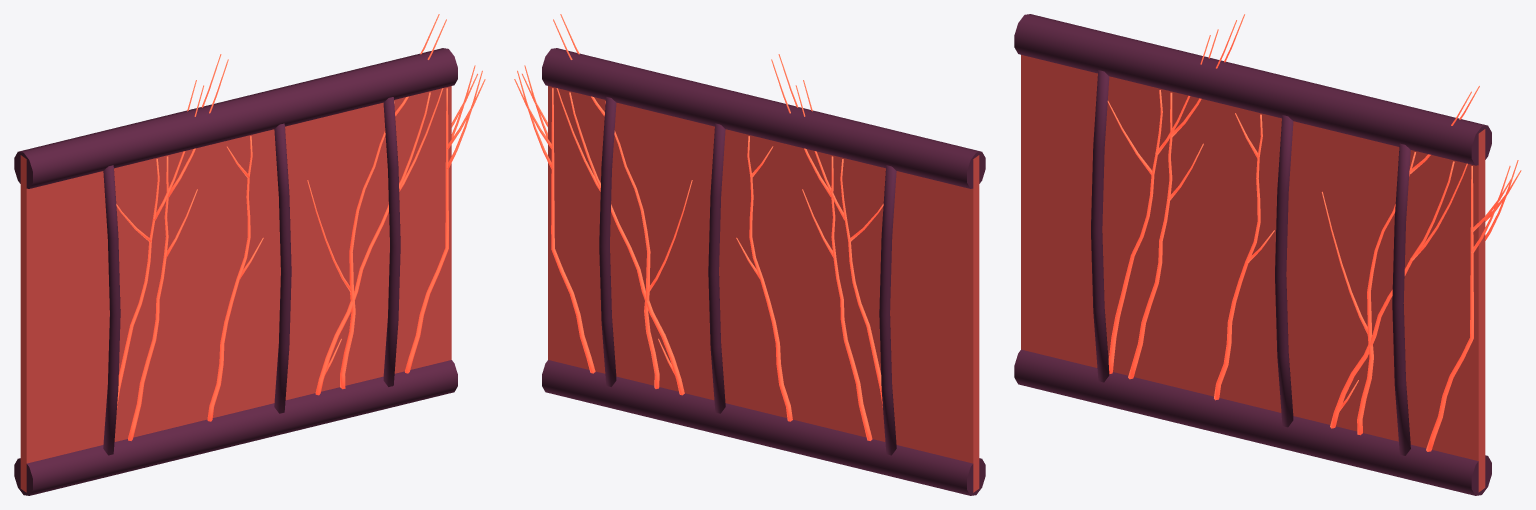
File: SM_Wall_Membrane.fbx
3 renders of one model, left to right at view 1: azimuth 30°, elevation 25°; view 2: azimuth 150°, elevation 25°; view 3: azimuth 330°, elevation 25°, orthographic. The views are drawn at different scales.
Parts seen in each view (by area): view 1: SM_Wall_Membrane; view 2: SM_Wall_Membrane; view 3: SM_Wall_Membrane.
Part boxes in pixels (x1,y1,x2,y2): SM_Wall_Membrane: (14,14,485,495); SM_Wall_Membrane: (514,14,985,495); SM_Wall_Membrane: (1014,14,1521,495).
Size of what is drawn, in the model's own units: 4.31 by 3.5 by 0.4866.
